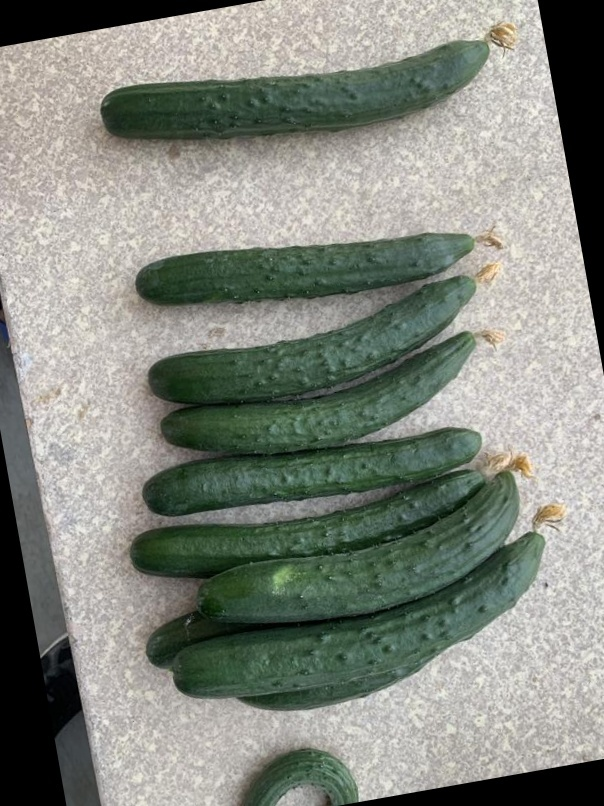mature: (178, 534, 540, 700), (94, 32, 503, 148), (195, 480, 520, 623), (146, 274, 481, 405), (132, 464, 490, 577), (161, 332, 475, 452), (129, 222, 506, 306), (136, 426, 486, 513)
